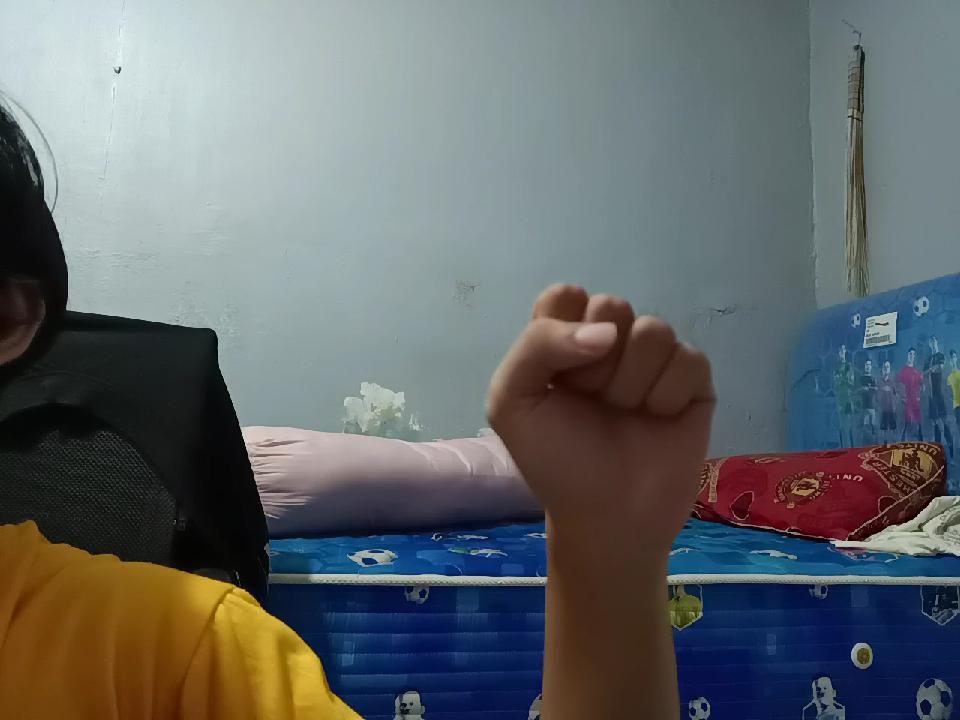rock: (486, 290, 708, 512)
